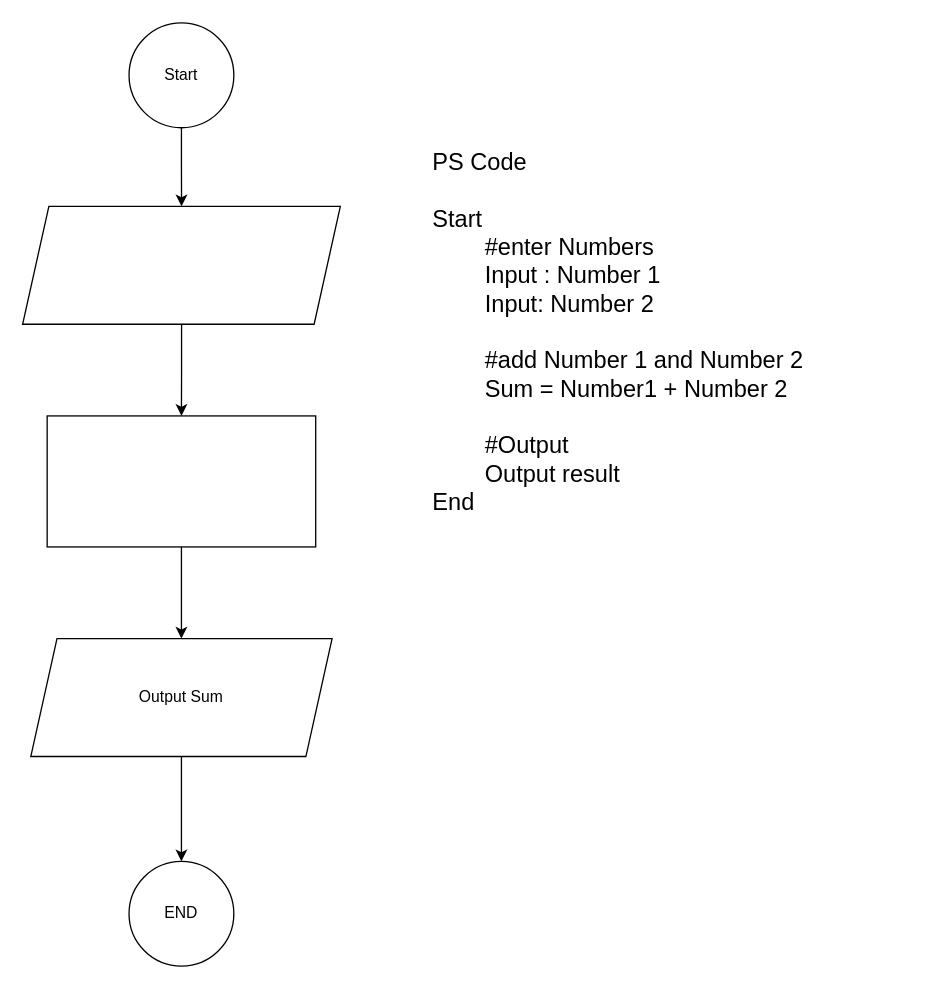
Some shapes in this 951 by 989 pixel diagram are drawn without their labels. The centre of each missing label's shape, as x and y in pixels:
Input: Number 1 + Number 2: pixel 180 264
Perform the addition Sum = Number1 + Number2: pixel 181 481
